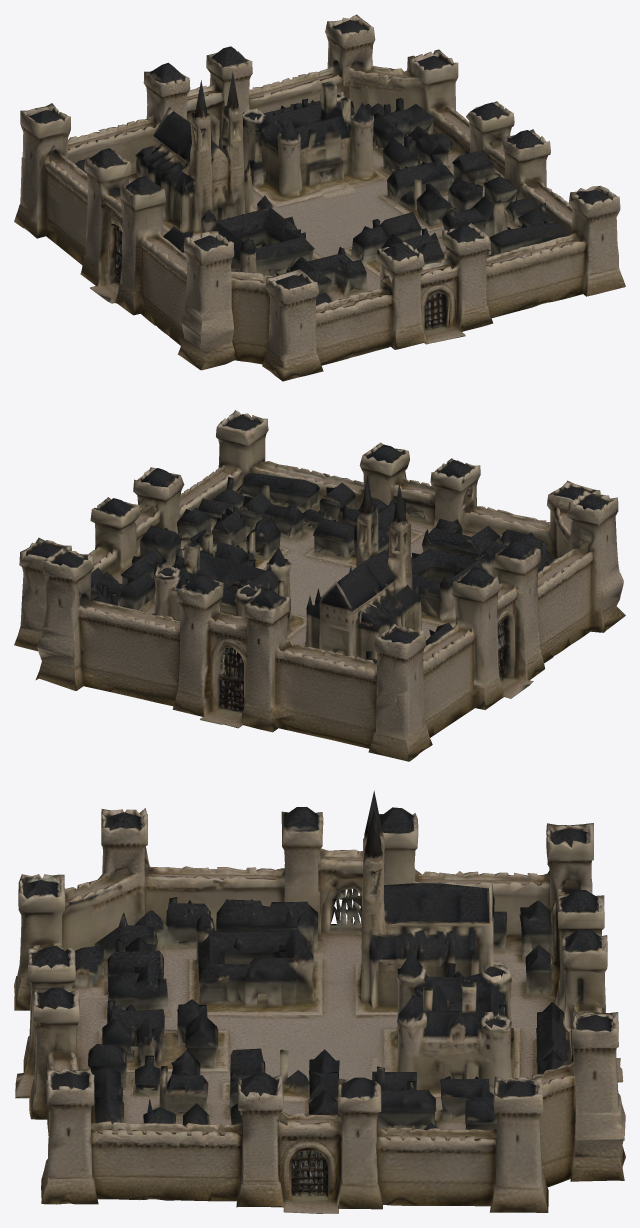
File: human-3.glb
3 renders of one model, top to bottom at view 1: azimuth 30°, elevation 25°; view 2: azimuth 150°, elevation 25°; view 3: azimuth 270°, elevation 25°, orthographic. The views are drawn at different scales.
Visible parts, largest first — view 1: tripo_node_b969652d-fc08-425b-8da3-93fbdd95b430; view 2: tripo_node_b969652d-fc08-425b-8da3-93fbdd95b430; view 3: tripo_node_b969652d-fc08-425b-8da3-93fbdd95b430.
Part boxes in pixels (<box>): tripo_node_b969652d-fc08-425b-8da3-93fbdd95b430: <box>14,14,625,381</box>; tripo_node_b969652d-fc08-425b-8da3-93fbdd95b430: <box>14,410,625,761</box>; tripo_node_b969652d-fc08-425b-8da3-93fbdd95b430: <box>14,790,625,1213</box>.
Bounding box in the file's own units: 1 × 0.4196 × 0.9907.
Materials: 1 (1 with a texture image).
